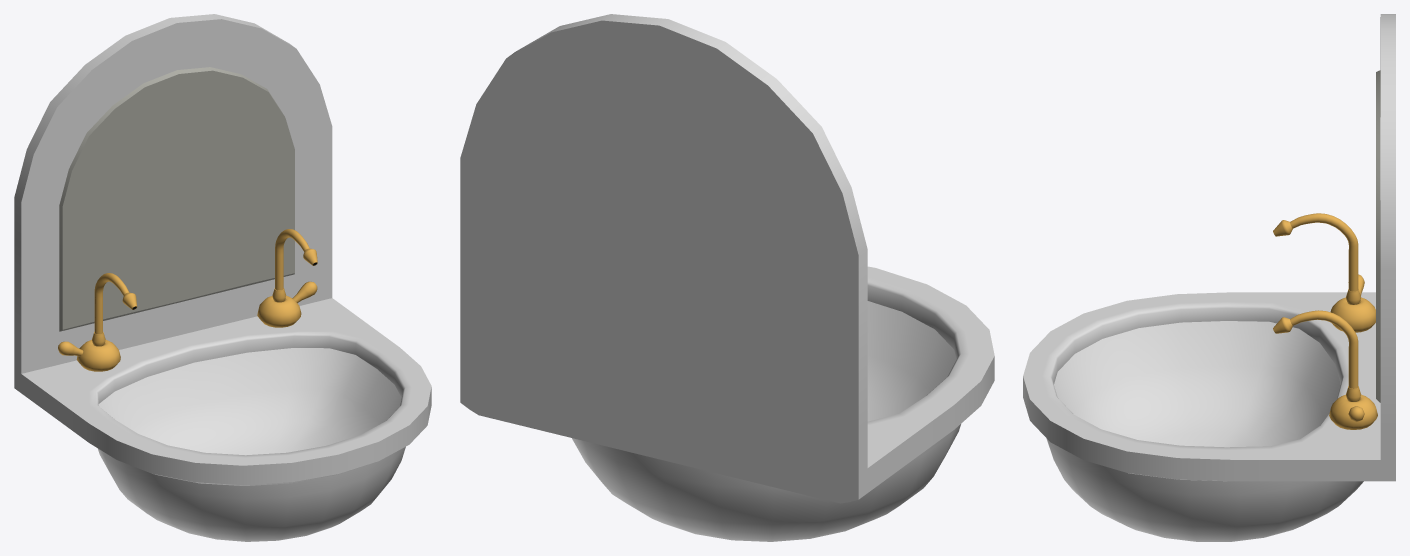
File: OT_075_sink.glb
3 renders of one model, left to right at view 1: azimuth 30°, elevation 25°; view 2: azimuth 150°, elevation 25°; view 3: azimuth 270°, elevation 25°, orthographic. The views are drawn at different scales.
Visible parts, largest first — view 1: sink, water_tap; view 2: sink; view 3: sink, water_tap.
Boxes of the visible parts, x1,y1,x2,y2 form: sink: (14, 14, 431, 541); water_tap: (58, 229, 317, 371); sink: (460, 14, 994, 541); sink: (1023, 14, 1395, 541); water_tap: (1273, 213, 1377, 429).
Bounding box in the file's own units: 1.3 × 1.74 × 1.22.
